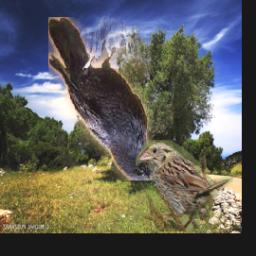Crow: (47, 18, 172, 181)
Sparrow: (135, 141, 232, 232)
